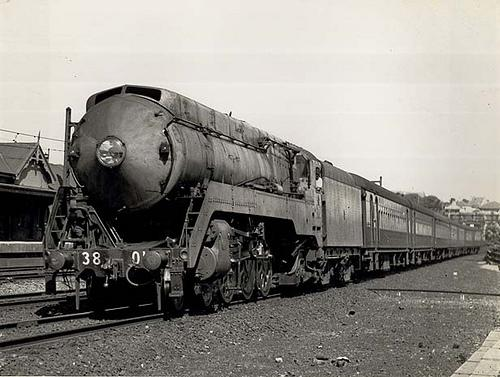Train: (41, 86, 485, 317)
